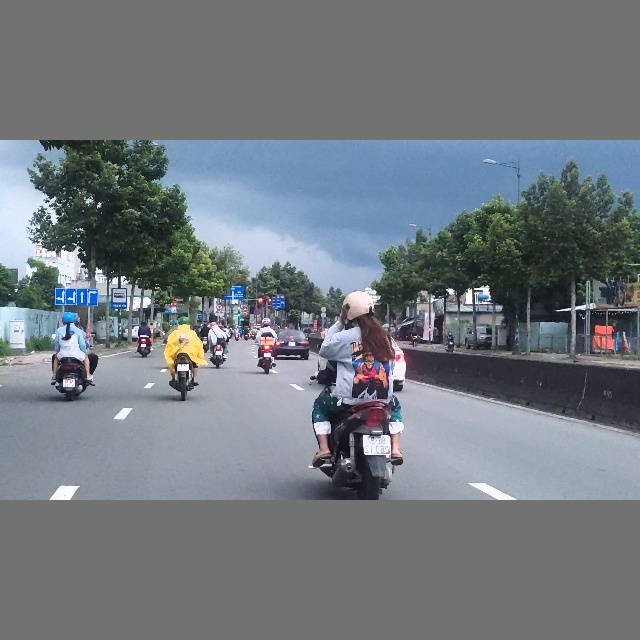I.434a: (111, 288, 127, 308)
P.137: (216, 304, 222, 310)
